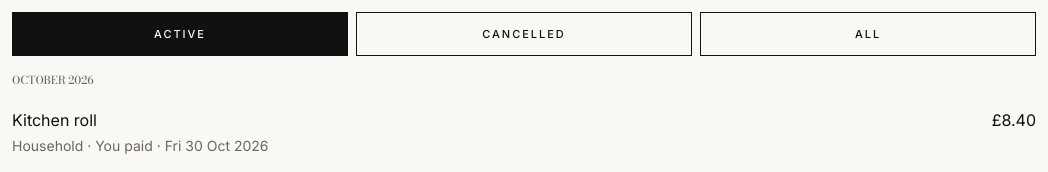
Scenario: ExpenseFilter › says plainly when an option has nothing in it
This screenshot has width=1048, height=172.
Click the button "Cancelled" at (524, 34), box x1=356 y1=12 x2=692 y2=56
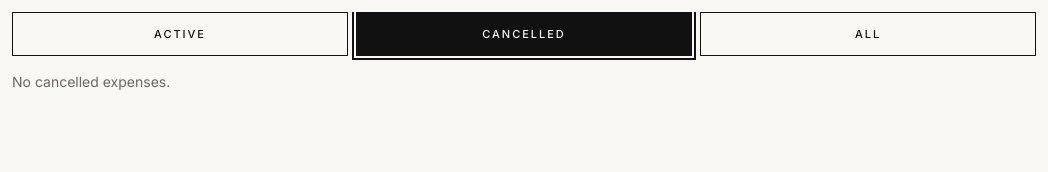
Expected: the text "No cancelled expenses." is shown, x1=12 y1=73 x2=170 y2=90
